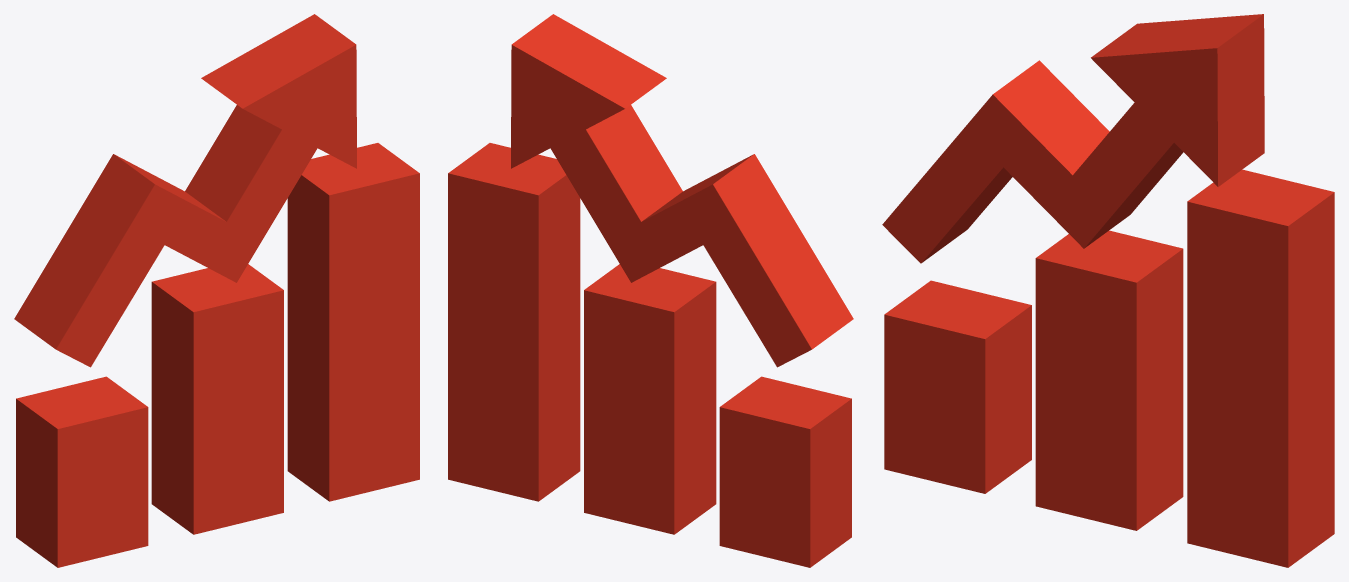
The model's file is Icon_Chart_04.fbx.
3 renders of one model, left to right at view 1: azimuth 30°, elevation 25°; view 2: azimuth 150°, elevation 25°; view 3: azimuth 330°, elevation 25°, orthographic. The views are drawn at different scales.
Visible parts, largest first — view 1: Icon_Chart_04; view 2: Icon_Chart_04; view 3: Icon_Chart_04.
Boxes of the visible parts, left/top/right/bottom form: Icon_Chart_04: left=14, top=14, right=419, bottom=567; Icon_Chart_04: left=448, top=14, right=853, bottom=567; Icon_Chart_04: left=882, top=14, right=1334, bottom=567.
Size of the model in its own units: 60.66 by 71.75 by 12.06.
